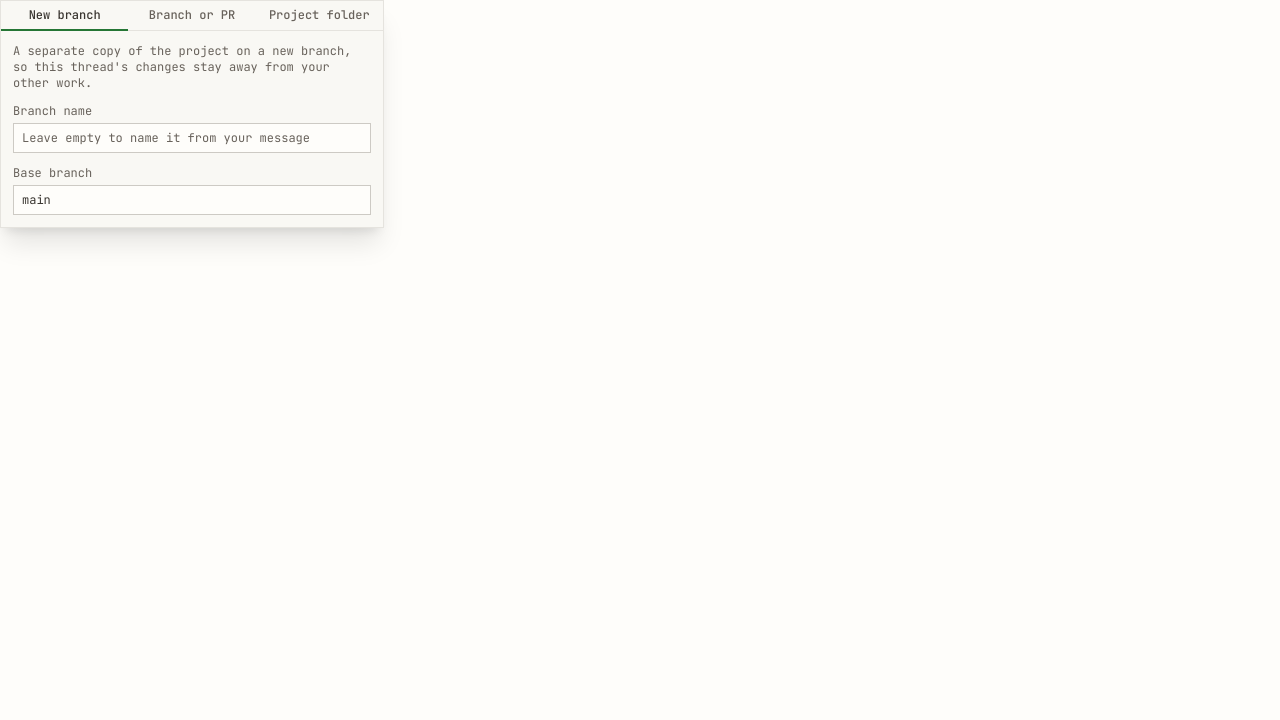
Test: DraftStartPicker › keeps listing branches when PRs cannot be listed
Click the button "Branch or PR".
click(192, 16)  # box top-left (128, 1), bottom-right (256, 31)
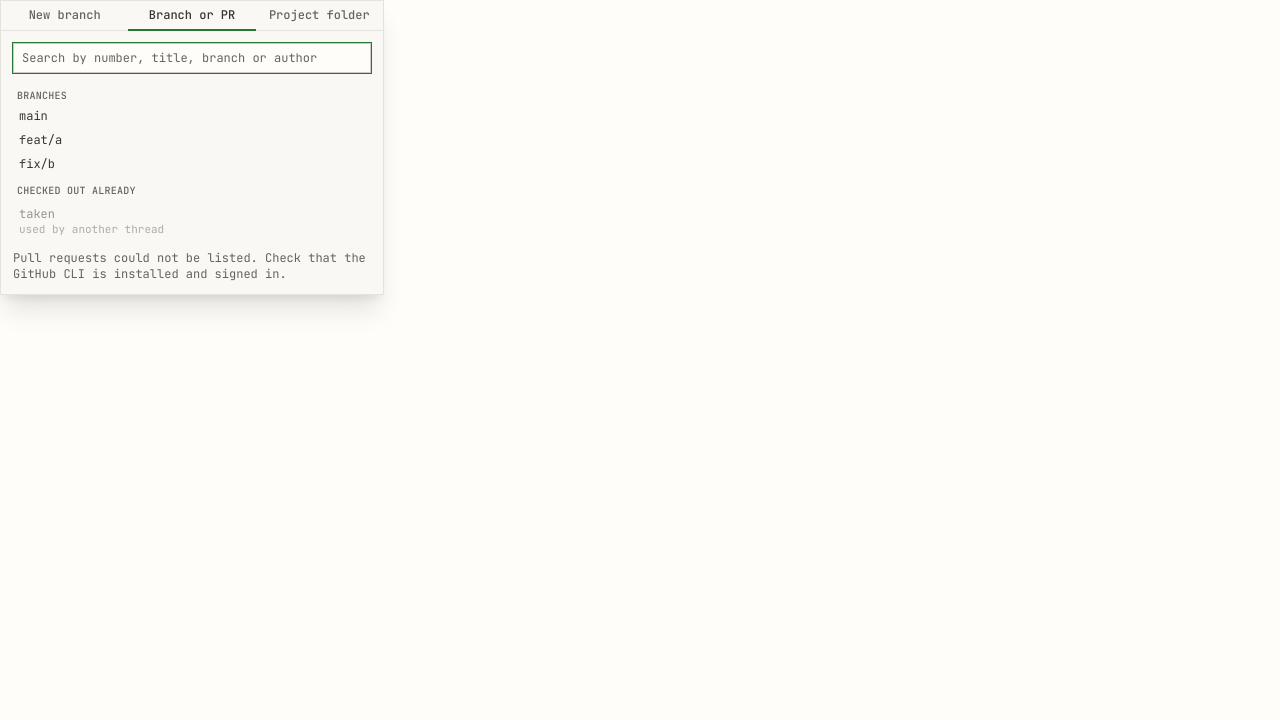
Check: the text "Pull requests could not be listed" is shown, box top-left (13, 250), bottom-right (366, 282)
Check: the button "feat/a" is shown, box top-left (9, 128), bottom-right (375, 152)
